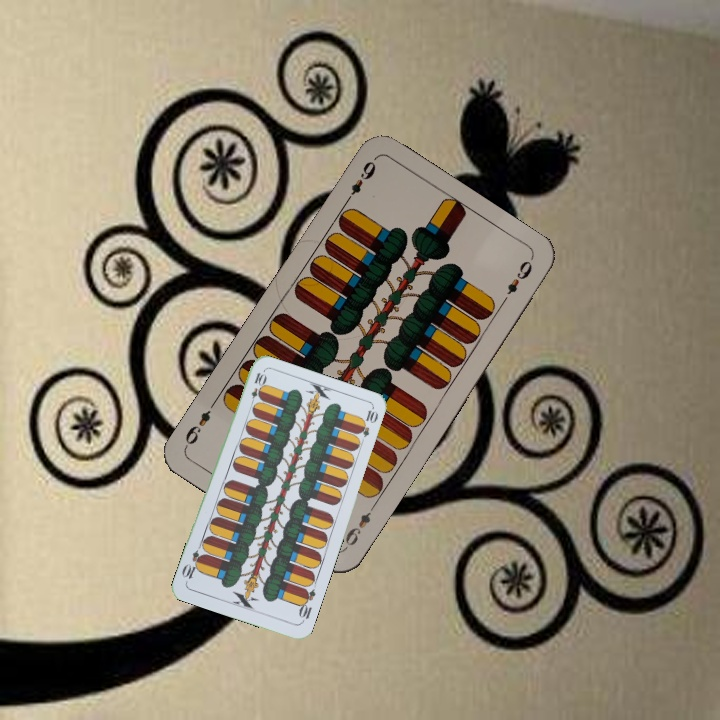E10: (294, 584, 318, 625), (246, 368, 267, 409)
E9: (339, 501, 378, 553), (340, 157, 379, 207)
